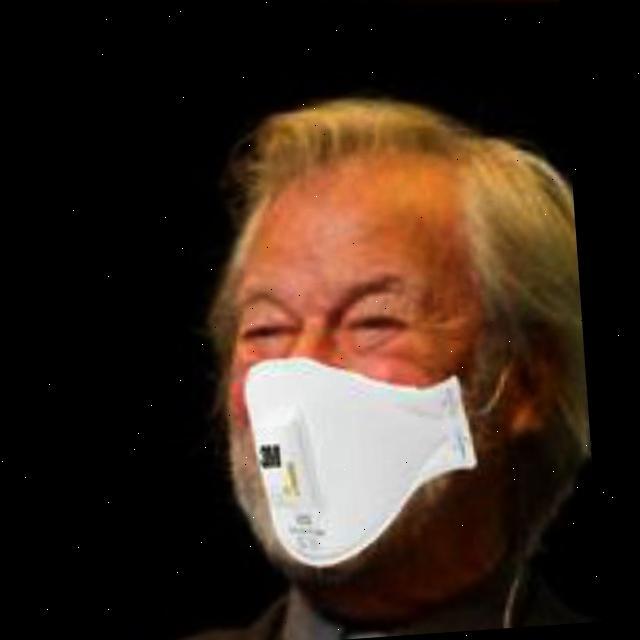suspicion: (144, 148, 561, 540)
